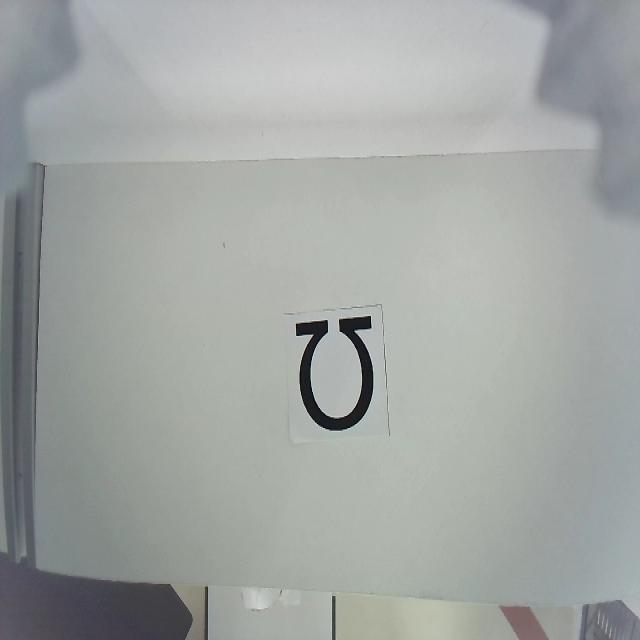OM: (296, 316, 375, 433)
